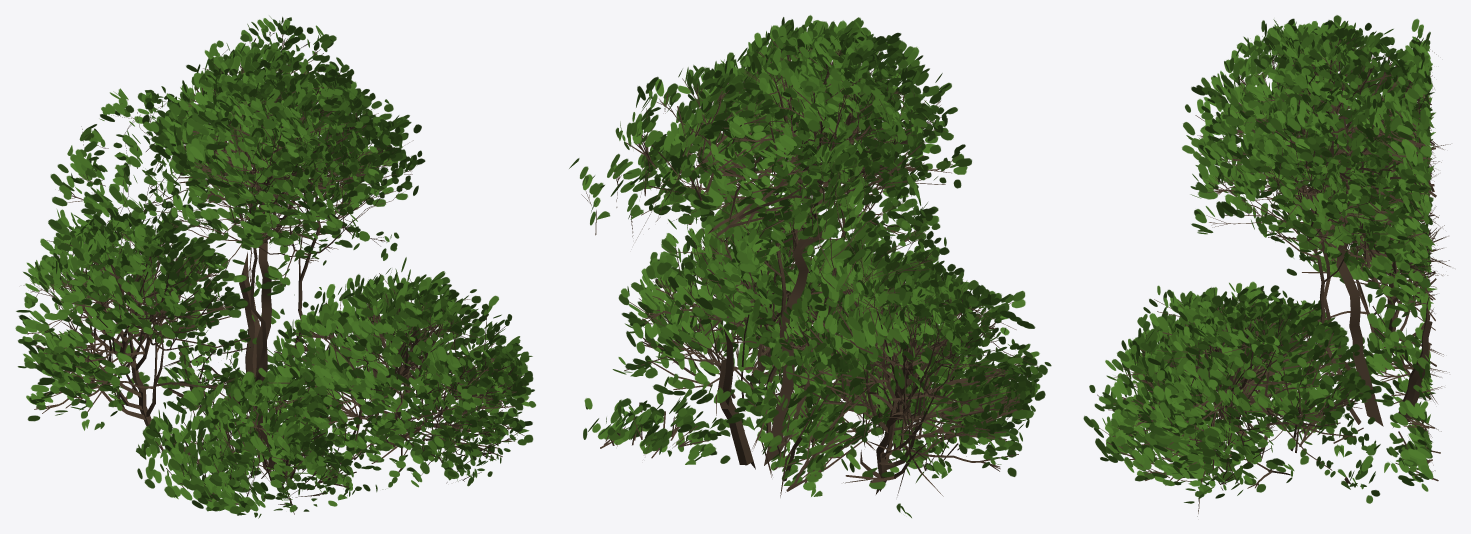
The picture shows the model from 3 angles, left to right: view 1: azimuth 30°, elevation 25°; view 2: azimuth 150°, elevation 25°; view 3: azimuth 270°, elevation 25°; orthographic projection. The views are drawn at different scales.
Parts seen in each view (by area): view 1: oak 01.001_trunk_Mat.001_0.479; view 2: oak 01.001_trunk_Mat.001_0.479; view 3: oak 01.001_trunk_Mat.001_0.479.
Part boxes in pixels (box(x1,y1,x2,y2)): oak 01.001_trunk_Mat.001_0.479: box(15, 16, 535, 518); oak 01.001_trunk_Mat.001_0.479: box(569, 15, 1051, 517); oak 01.001_trunk_Mat.001_0.479: box(1083, 15, 1450, 516).
Bounding box in the file's own units: 4.55 × 3.92 × 3.25.
2 materials, 1 textured.
